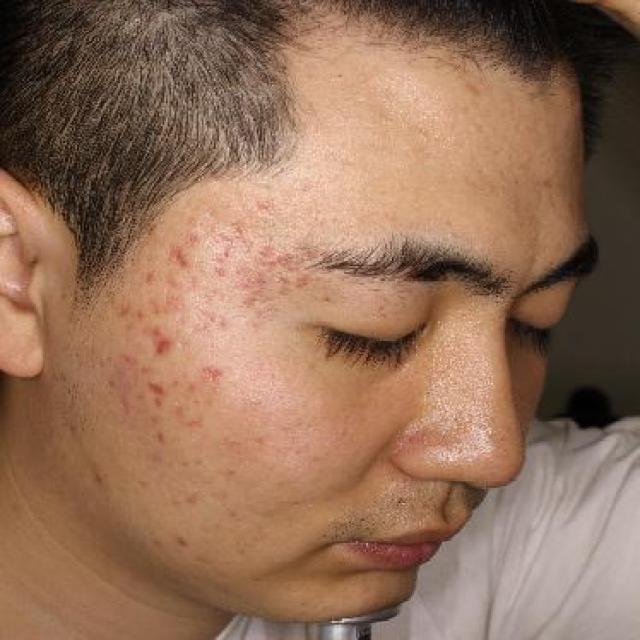dark spot: (161, 245, 193, 269), (140, 377, 173, 400), (147, 332, 176, 358), (197, 363, 233, 383), (88, 469, 110, 488)
